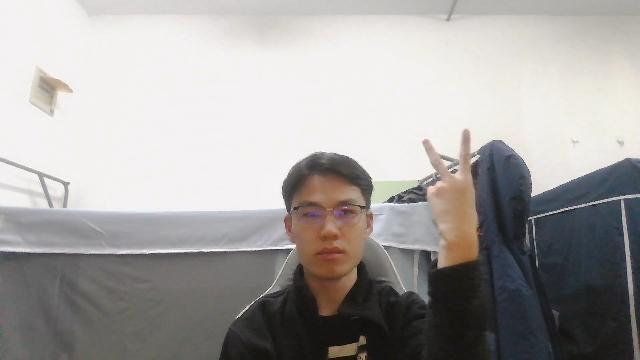yes: (420, 124, 484, 242)
